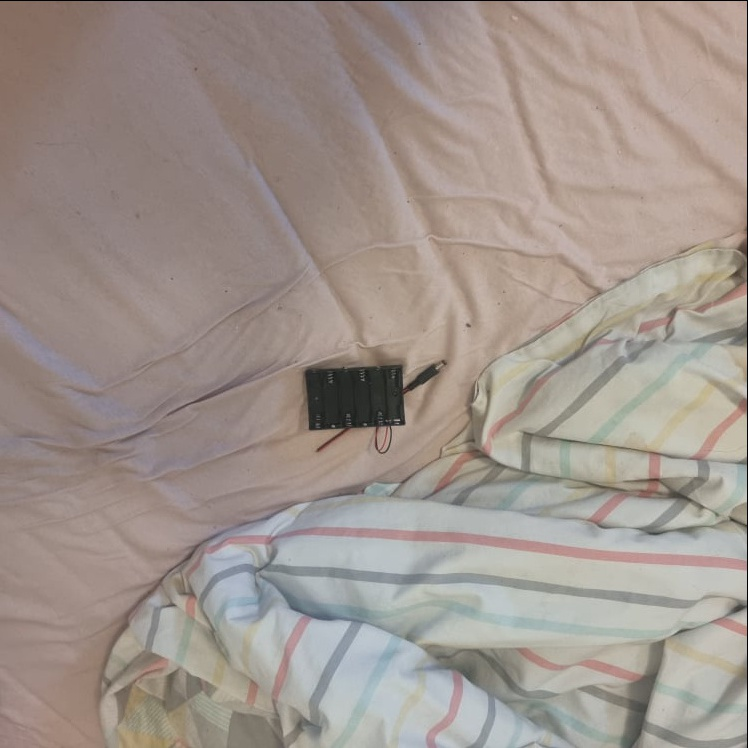BATTERY BOX: (303, 361, 408, 430)
